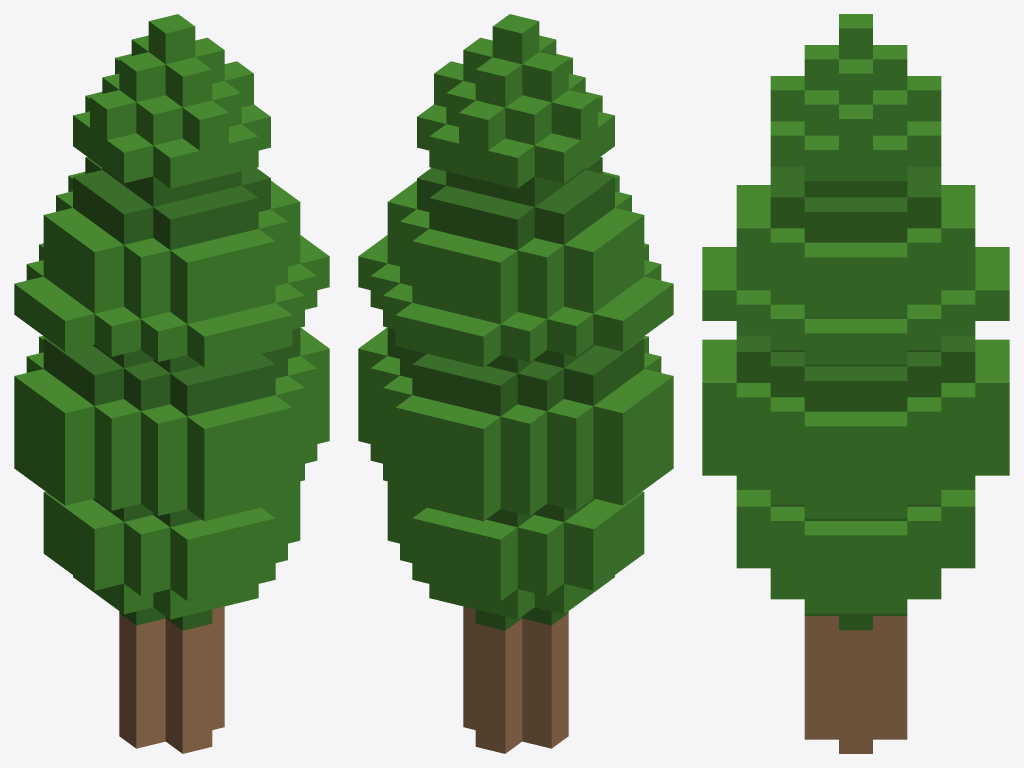
Rendered from cubeland1-34.obj.
3 renders of one model, left to right at view 1: azimuth 30°, elevation 25°; view 2: azimuth 150°, elevation 25°; view 3: azimuth 270°, elevation 25°, orthographic.
Size of the model in its own units: 0.9 by 2.3 by 0.9.
Materials: 1 (1 with a texture image).
